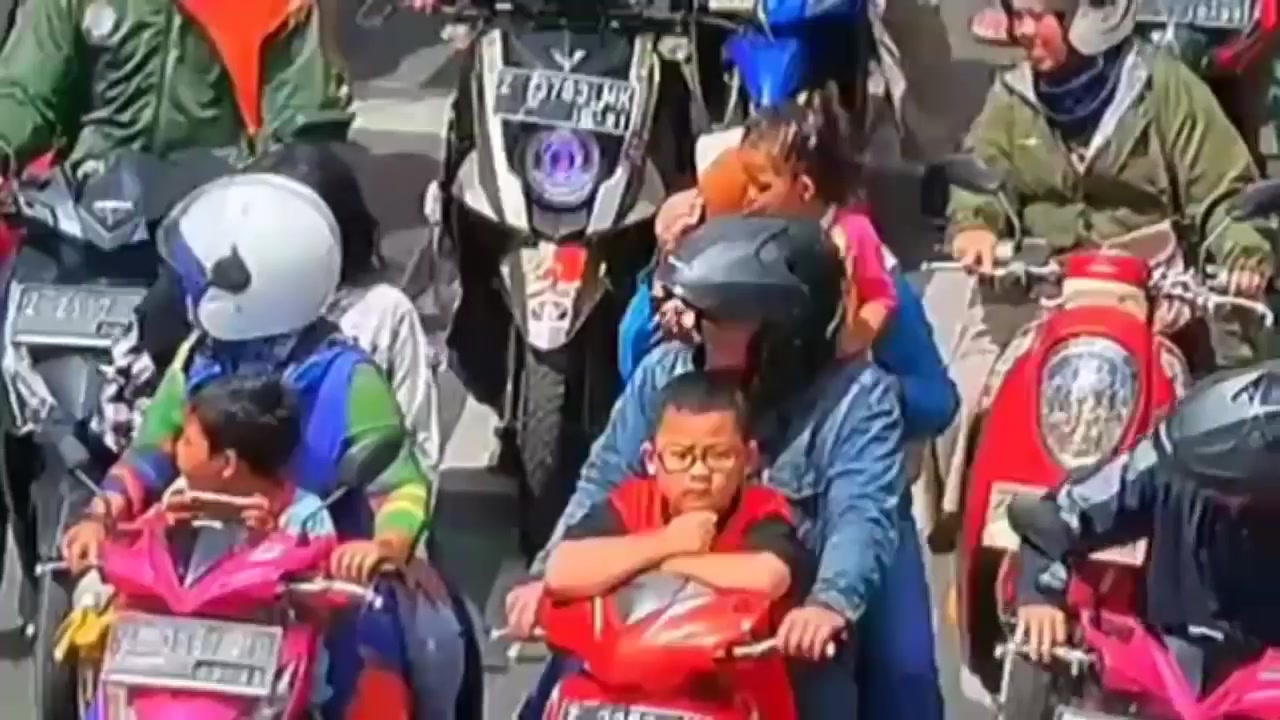person with motorcycle: (73, 351, 351, 719), (565, 355, 825, 720)
person without helm: (619, 358, 772, 538), (162, 373, 325, 531)
